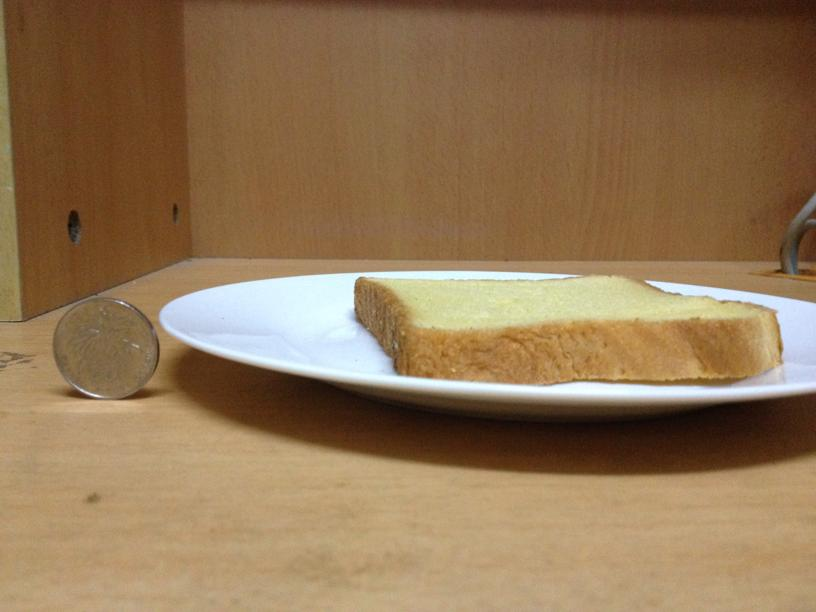bread: (342, 275, 784, 386)
coin: (51, 296, 156, 399)
